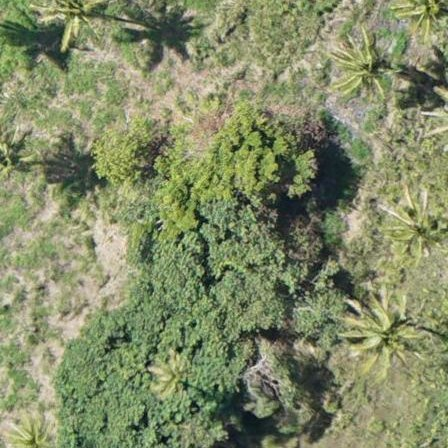palm_tree: (372, 183, 448, 271), (344, 287, 423, 371), (327, 28, 402, 107), (36, 1, 109, 47), (144, 352, 194, 402)
